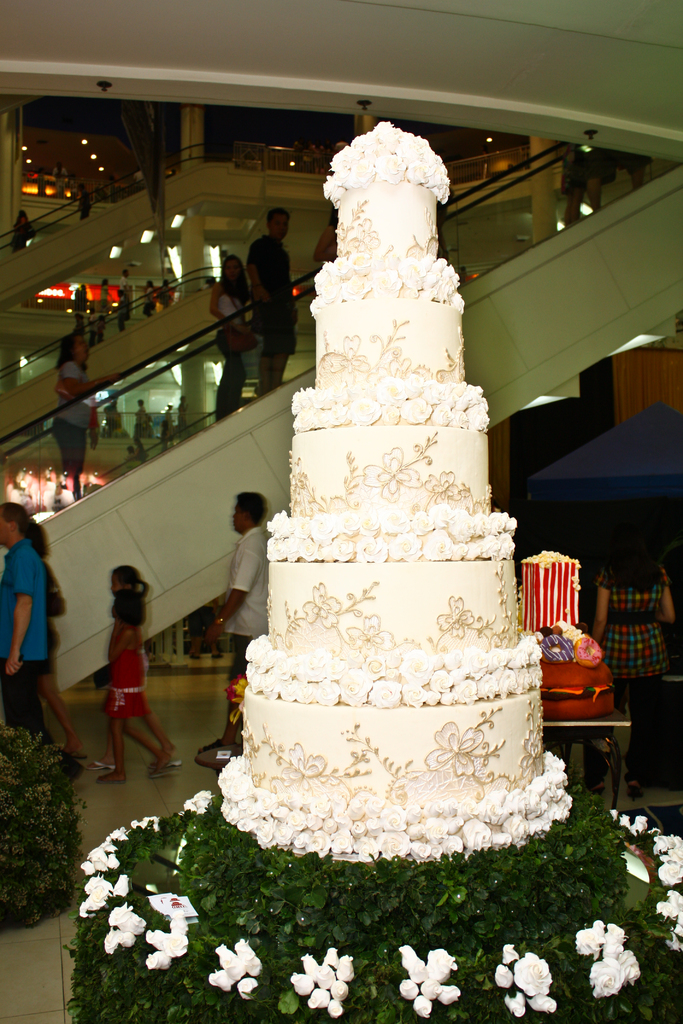cake: (215, 118, 573, 860)
